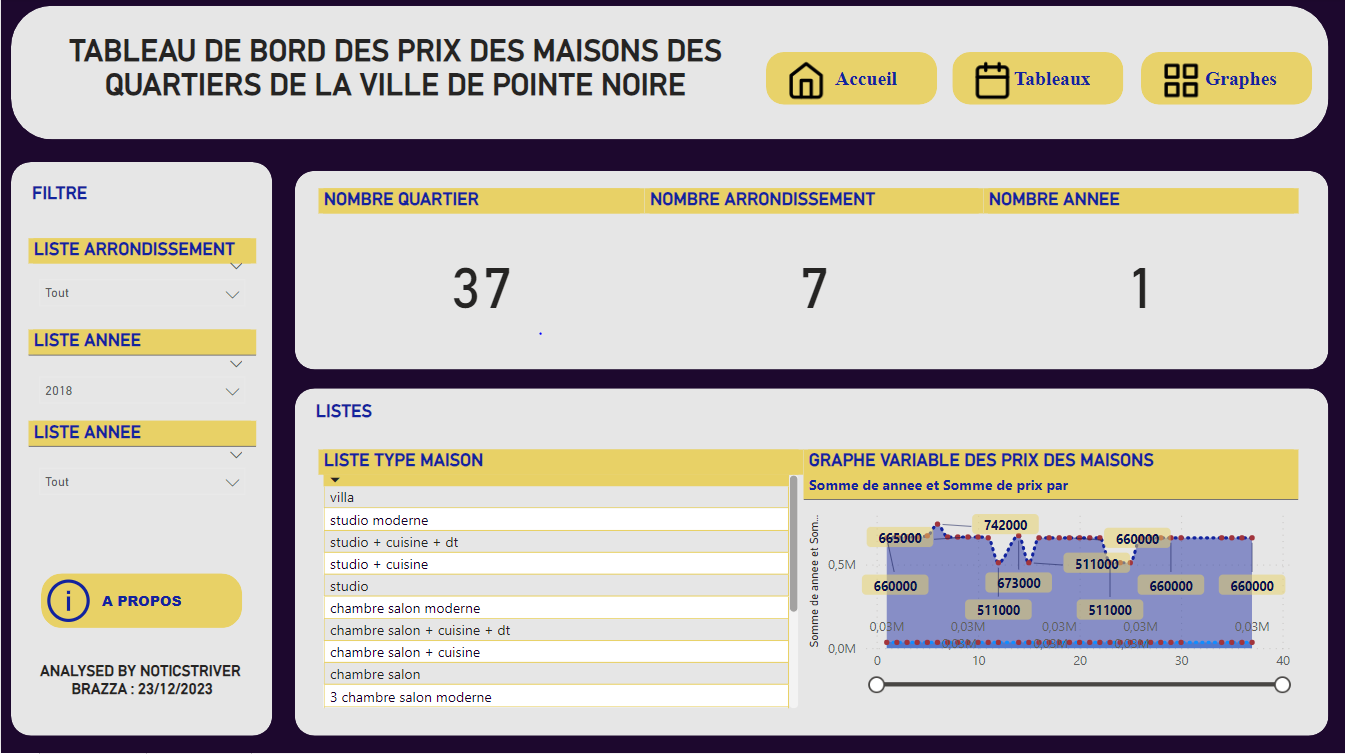

The dashboard page shown, as its layout file describes it:
{"tool":"powerbi","page":{"name":"accueil","canvas":[1280,720],"ordinal":0},"visuals":[{"type":"shape","box":[9.5,8.3,1254.3,127.3],"z":0},{"type":"textbox","box":[59,28.8,632.1,86.4],"z":1000},{"type":"shape","box":[9.5,157.1,248.7,546.2],"z":4000},{"type":"slicer","title":"LISTE ARRONDISSEMENT","fields":{"Values":["arrondissement.libelle"]},"box":[26.2,229.7,216.6,86.9],"z":8000},{"type":"slicer","title":"LISTE ANNEE","fields":{"Values":["detail.annee"]},"box":[26.2,316.6,216.6,86.9],"z":9000},{"type":"slicer","title":"LISTE ANNEE","fields":{"Values":["quartier.libelle"]},"box":[26.2,403.4,216.6,86.9],"z":10000},{"type":"textbox","box":[26.2,627.2,216.6,54.7],"z":11000},{"type":"actionButton","box":[38.1,548.6,191.6,52.4],"z":14000},{"type":"actionButton","box":[728.6,52.9,163,50.2],"z":15000},{"type":"actionButton","box":[1085.2,52.9,163,50.2],"z":16000},{"type":"actionButton","box":[905.5,52.9,163,50.2],"z":17000},{"type":"shape","box":[274.1,157.5,989.3,545.8],"z":18000},{"type":"lineClusteredColumnComboChart","title":"GRAPHE VARIABLE DES PRIX DES MAISONS","fields":{"Category":["quartier.num"],"Y":["Sum(detail.annee)","Sum(detail.prix)","mesure.nbre_annnee"]},"box":[293.3,212.8,471.2,251.2],"z":19000},{"type":"areaChart","title":"GRAPHE VARIABLE DES PRIX DES MAISONS","fields":{"Y":["Sum(detail.annee)","Sum(detail.prix)"],"Category":["detail.quartier"]},"box":[764.5,212.8,471.2,251.2],"z":20000},{"type":"ribbonChart","title":"GRAPHE VARIABLE DES PRIX DES MAISONS","fields":{"Category":["type.id"],"Y":["mesure.nbre_annnee","Sum(detail.prix)"]},"box":[293.3,452,471.2,251.2],"z":21000},{"type":"lineChart","title":"GRAPHE VARIABLE DES PRIX DES MAISONS","fields":{"Category":["detail.quartier"],"Y":["Sum(detail.prix)","mesure.nbre_annnee"],"Rows":["type.libellé"]},"box":[764.5,452,471.2,251.2],"z":22000}]}

Visuals, with their boxes in screenshot pixels (x1, y1, x2, y2), scaled from the page's 1280x720 canvas onto the 1345x754 screenshot:
shape: 10/9/1328/142
textbox: 62/30/726/121
shape: 10/165/271/737
"LISTE ARRONDISSEMENT" slicer: 28/241/255/332
"LISTE ANNEE" slicer: 28/332/255/423
"LISTE ANNEE" slicer: 28/422/255/513
textbox: 28/657/255/714
actionButton: 40/575/241/629
actionButton: 766/55/937/108
actionButton: 1140/55/1312/108
actionButton: 951/55/1123/108
shape: 288/165/1328/737
"GRAPHE VARIABLE DES PRIX DES MAISONS" lineClusteredColumnComboChart: 308/223/803/486
"GRAPHE VARIABLE DES PRIX DES MAISONS" areaChart: 803/223/1298/486
"GRAPHE VARIABLE DES PRIX DES MAISONS" ribbonChart: 308/473/803/736
"GRAPHE VARIABLE DES PRIX DES MAISONS" lineChart: 803/473/1298/736
